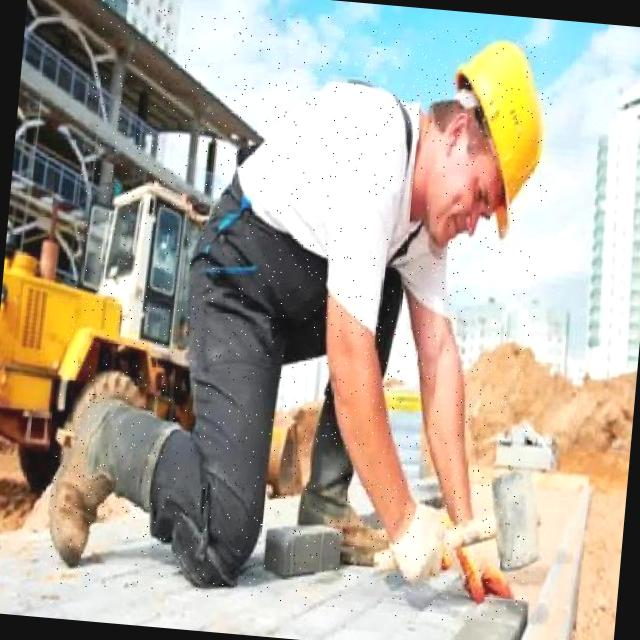boots: (44, 390, 138, 580), (285, 485, 396, 570)
gloves: (444, 517, 522, 607), (376, 499, 458, 581)
